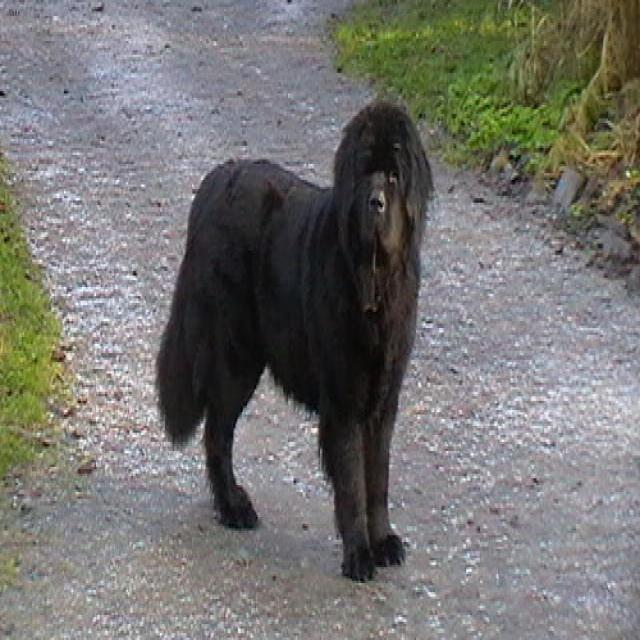dog-newfoundland: (147, 91, 436, 604)
